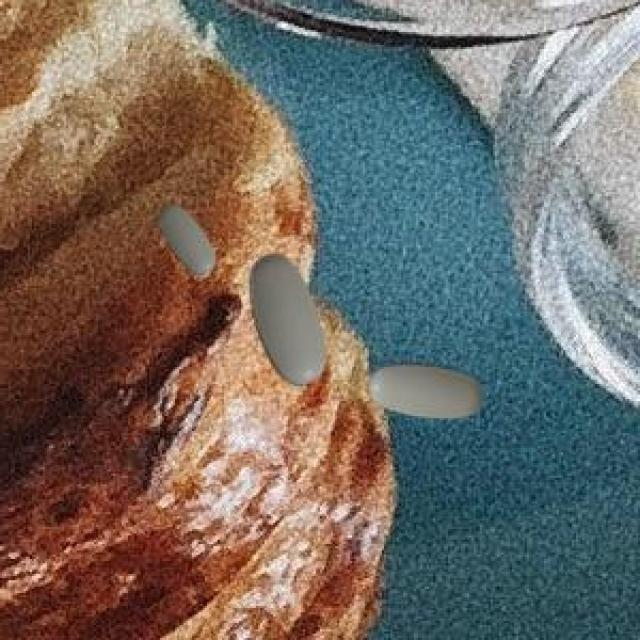Neozep: (244, 249, 336, 393), (362, 345, 493, 425), (150, 200, 224, 284)
